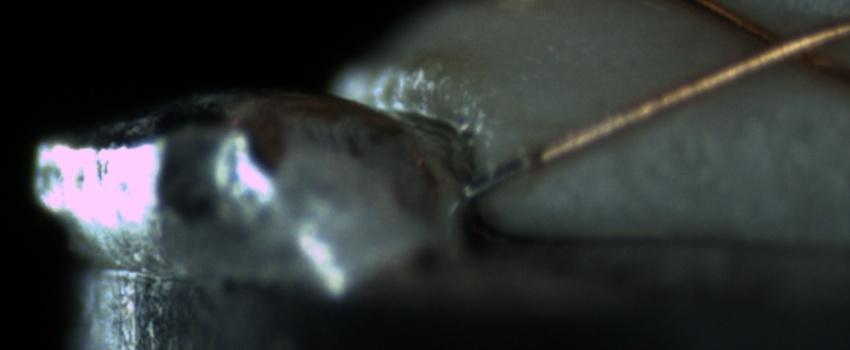CL: (733, 12, 842, 79)
TS: (464, 156, 535, 198)
